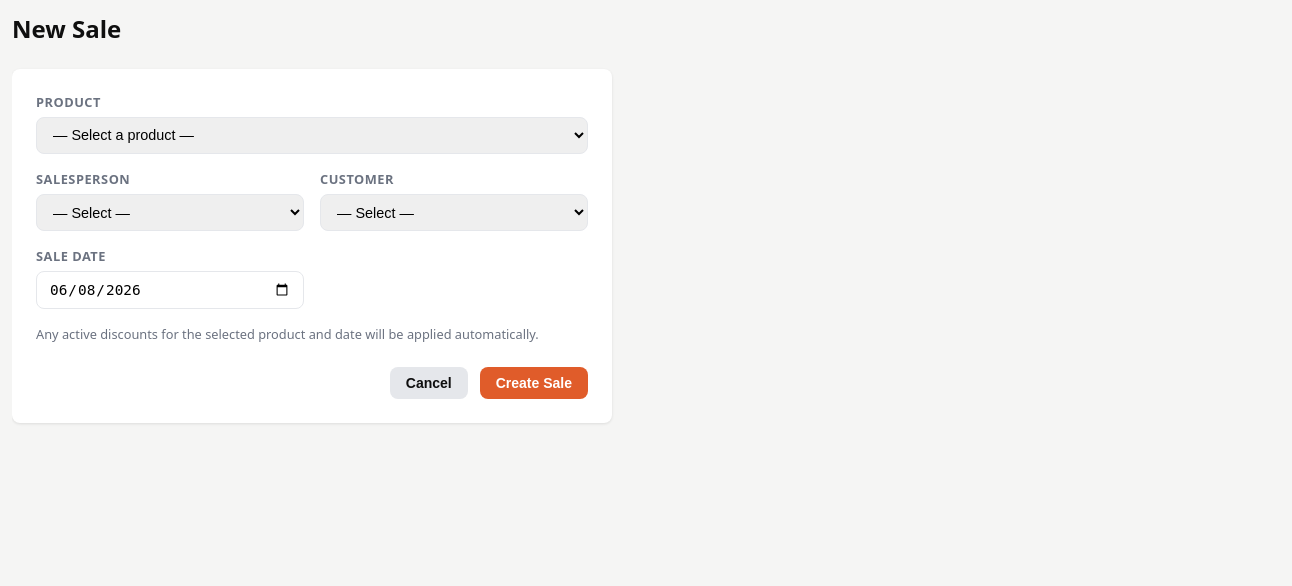
Test: shows API error on failed submission
The width and height of the screenshot is (1292, 586).
Step 1. Select "Apex Racer — $1499 (5 in stock)" in the 1st dropdown → (312, 135), box [36,117,588,154]
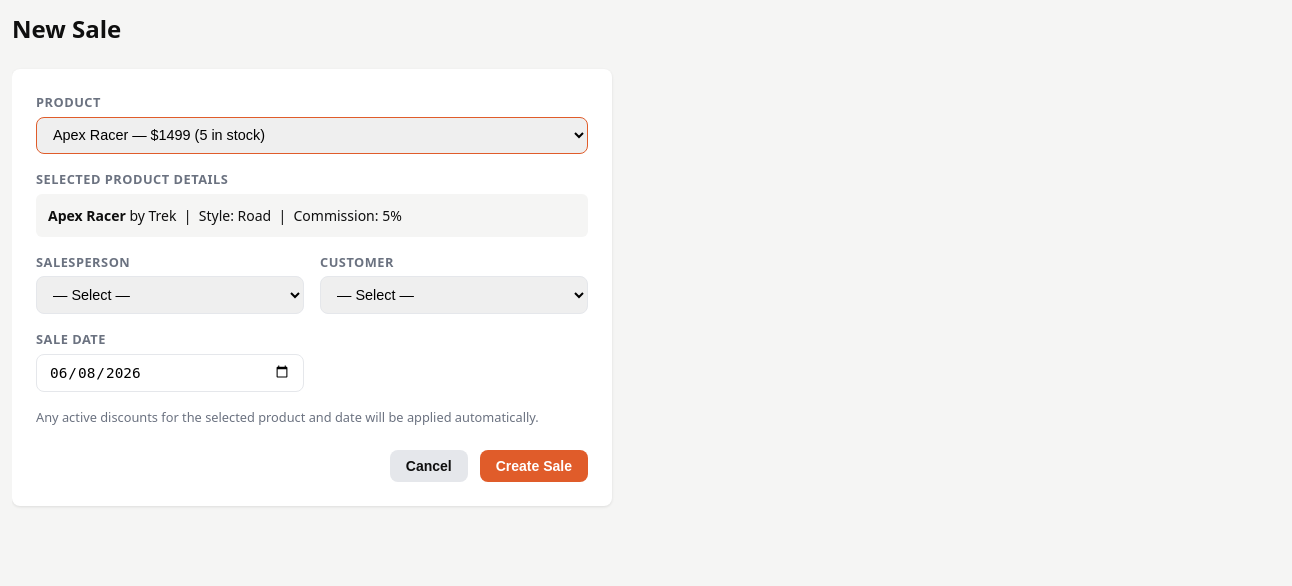
Step 2. Select "Alice Chen" in the dropdown below "Salesperson" → (170, 295), box [36,276,304,314]
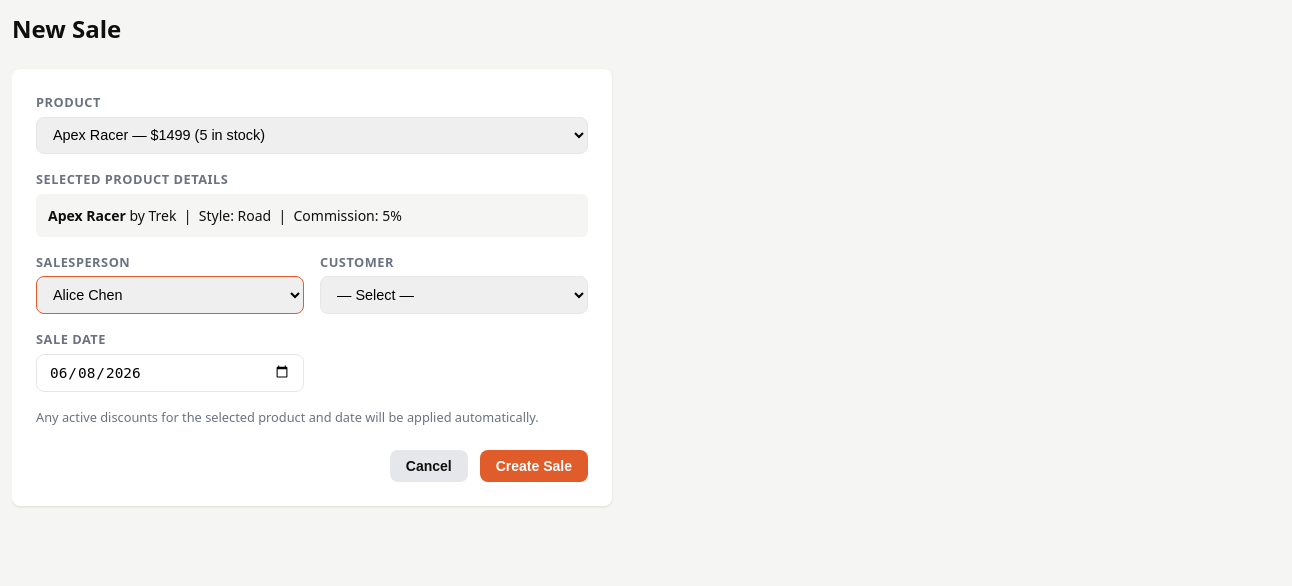
Step 3. Select "Tom Walker" in the dropdown below "Customer" → (454, 295), box [320,276,588,314]
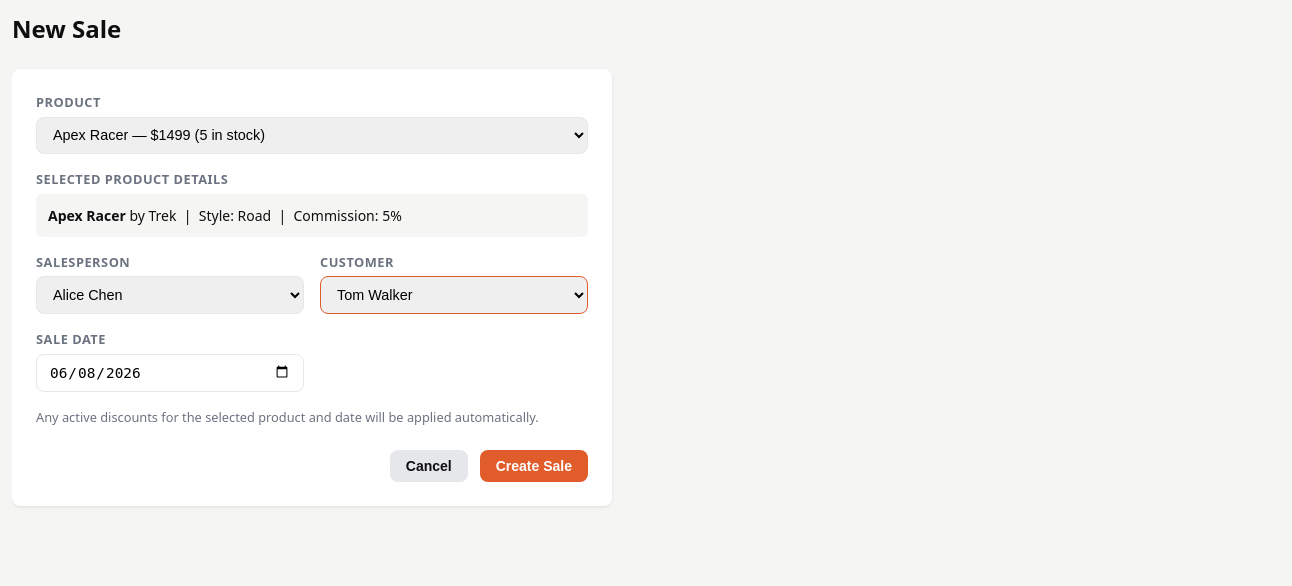
Step 4. Click the button "Create Sale" → (534, 466), box [480,450,588,482]
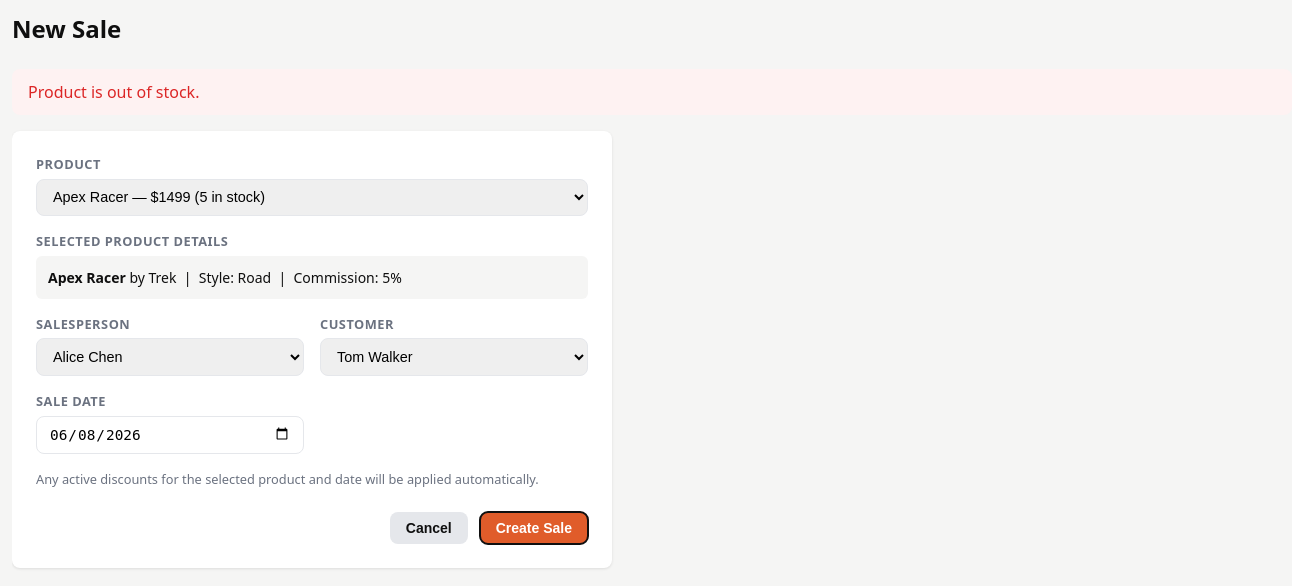
Check: the text "Product is out of stock." is shown, box [12,69,1291,115]
